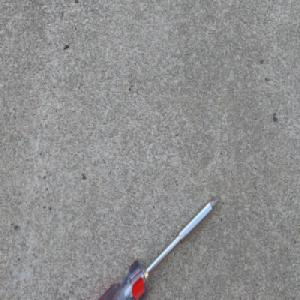Screwdriver: (97, 196, 220, 300)
